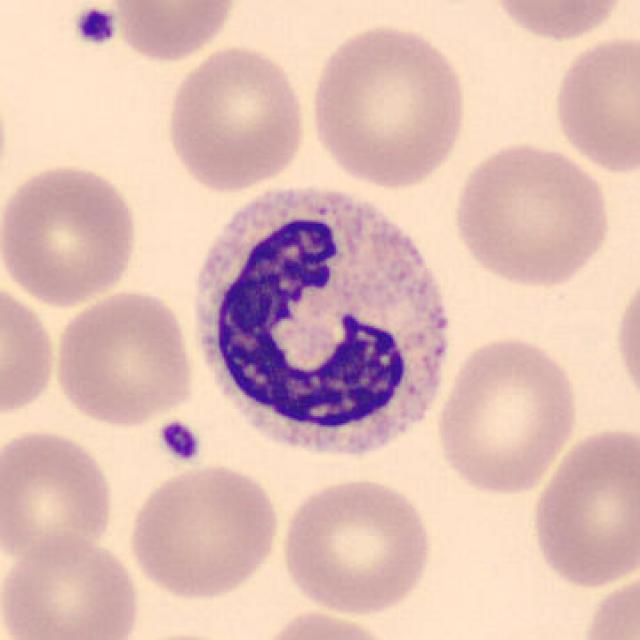Neutrophil: (180, 173, 464, 478)
Platelets: (154, 418, 204, 465), (71, 4, 119, 49)
RBC: (304, 19, 471, 192), (446, 137, 615, 291), (432, 332, 581, 497), (278, 473, 438, 617), (162, 42, 311, 194), (125, 460, 282, 603), (0, 158, 144, 308), (50, 287, 197, 428), (526, 423, 638, 593), (0, 425, 119, 566), (0, 530, 146, 640), (548, 30, 638, 176), (106, 0, 242, 65), (0, 276, 60, 421), (485, 0, 631, 44), (249, 608, 403, 640), (610, 264, 640, 418), (576, 567, 638, 640)
